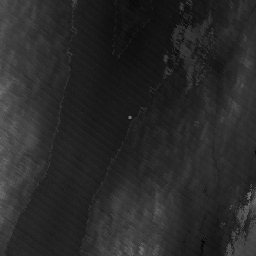Target: (127, 113, 133, 120)
